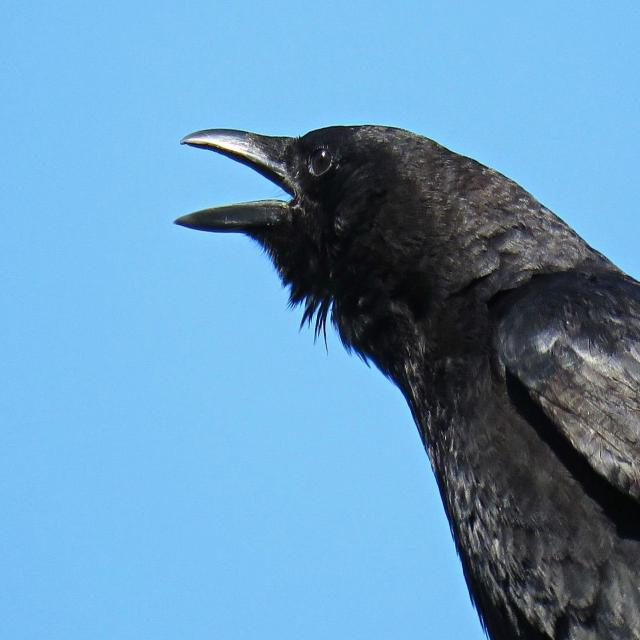crow: (185, 83, 587, 415)
